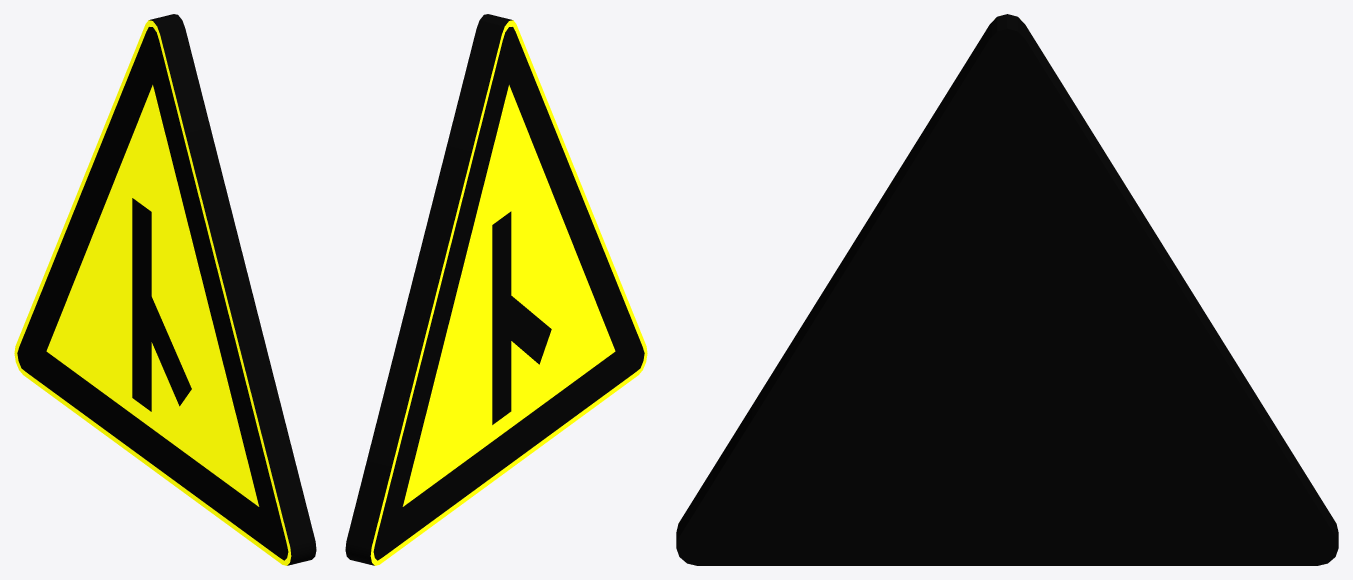
File: Y_Crossing-2.glb
3 views of the same model, side by side, from view 1: azimuth 30°, elevation 25°; view 2: azimuth 150°, elevation 25°; view 3: azimuth 270°, elevation 25° (orthographic). The views are drawn at different scales.
Visible parts, largest first — view 1: Y_Crossing_2; view 2: Y_Crossing_2; view 3: Y_Crossing_2.
Part boxes in pixels (x1,y1,x2,y2): Y_Crossing_2: (14,14,316,565); Y_Crossing_2: (345,14,647,565); Y_Crossing_2: (676,14,1338,565).
Size of the model in its own units: 0.0643 by 1.02 by 1.14.
